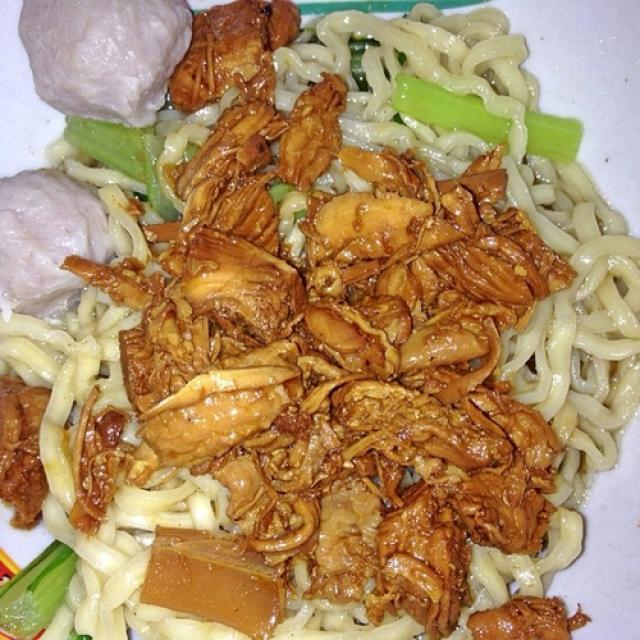面条主食: (23, 15, 616, 621)
